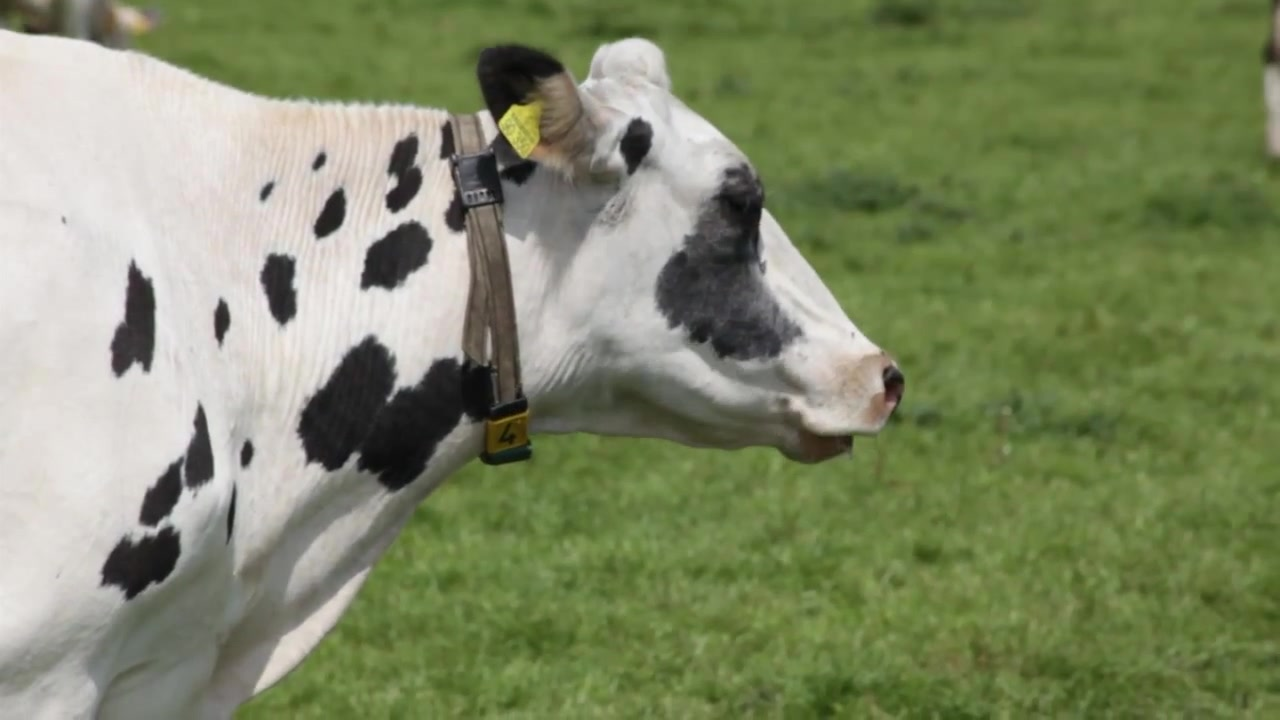cow: (1, 16, 907, 720)
